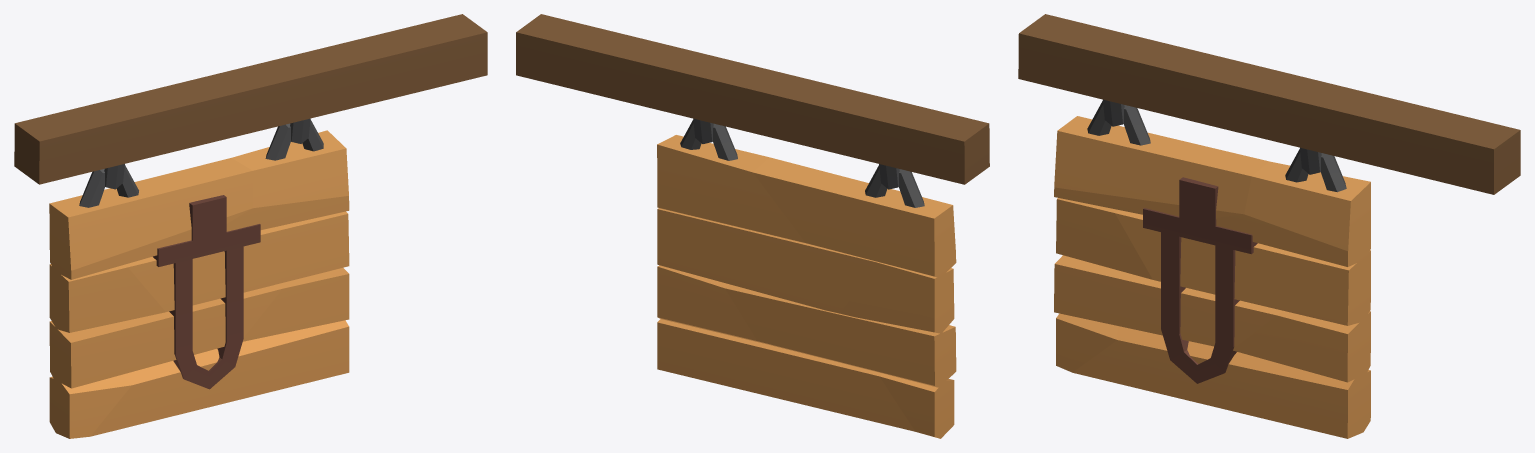
File: Market_Sign_B.fbx
3 views of the same model, side by side, from view 1: azimuth 30°, elevation 25°; view 2: azimuth 150°, elevation 25°; view 3: azimuth 330°, elevation 25° (orthographic). The views are drawn at different scales.
Visible parts, largest first — view 1: Market_Sign_B; view 2: Market_Sign_B; view 3: Market_Sign_B.
Part boxes in pixels (box(x1,y1,x2,y2)): Market_Sign_B: box(14, 14, 487, 438); Market_Sign_B: box(516, 14, 989, 438); Market_Sign_B: box(1018, 14, 1520, 438).
Size of the model in its own units: 158 by 105 by 15.76.
